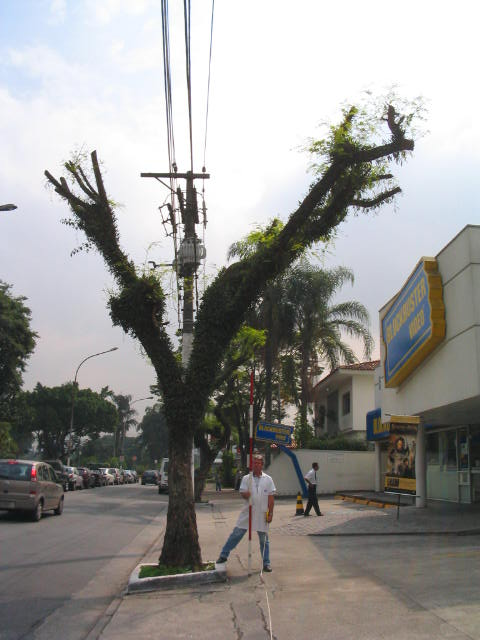stem: (143, 389, 220, 568)
stick: (237, 369, 264, 578)
tree: (39, 93, 431, 572), (273, 266, 378, 447), (5, 381, 120, 459)
